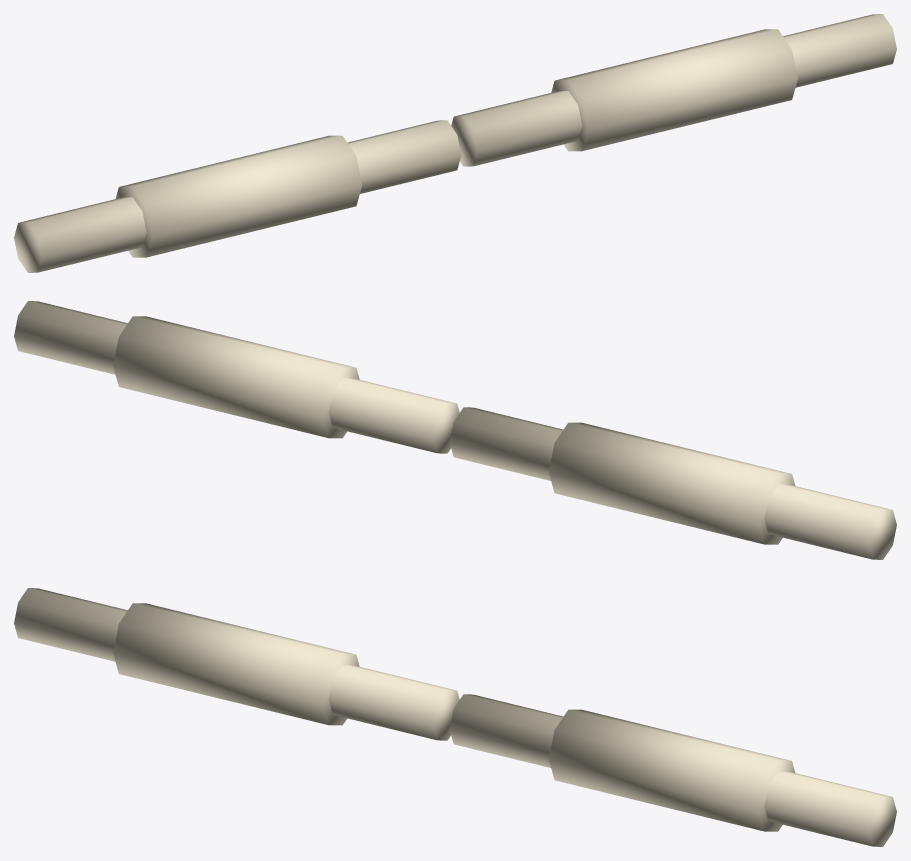
The model's file is bails.glb.
The picture shows the model from 3 angles, top to bottom: view 1: azimuth 30°, elevation 25°; view 2: azimuth 150°, elevation 25°; view 3: azimuth 330°, elevation 25°; orthographic projection.
Parts seen in each view (by area): view 1: bail_off, bail_leg; view 2: bail_off, bail_leg; view 3: bail_leg, bail_off.
Part boxes in pixels (x1,y1,x2,y2): bail_off: (14, 120, 461, 272); bail_leg: (451, 14, 896, 166); bail_off: (449, 407, 896, 559); bail_leg: (14, 301, 459, 453); bail_leg: (449, 694, 896, 846); bail_off: (14, 588, 459, 740).
Bounding box in the file's own units: 0.214 × 0.017 × 0.017.
Materials: 1 (1 with a texture image).
